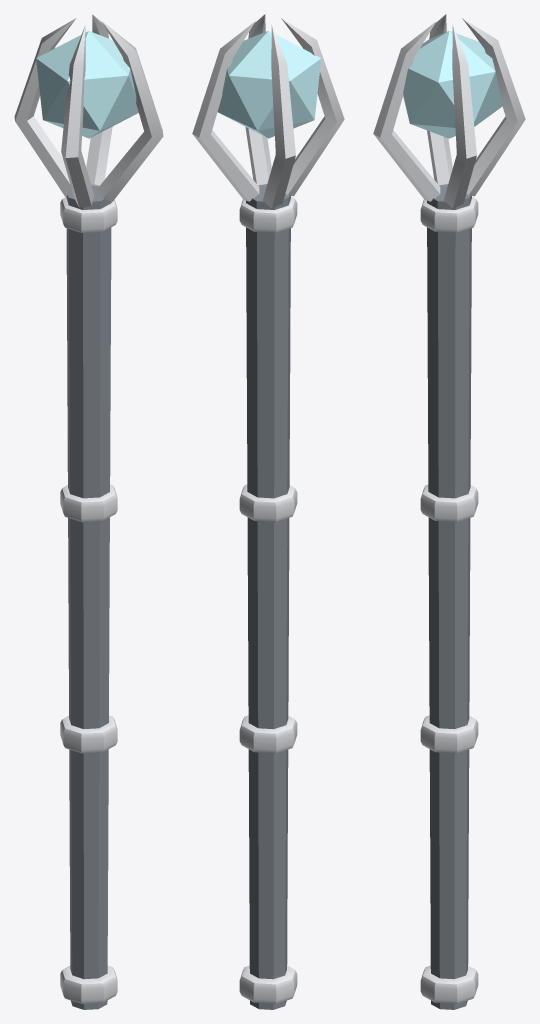
The model's file is DiamondStaff.fbx.
The picture shows the model from 3 angles, left to right: view 1: azimuth 30°, elevation 25°; view 2: azimuth 150°, elevation 25°; view 3: azimuth 330°, elevation 25°; orthographic projection.
Parts seen in each view (by area): view 1: DiamondStaff; view 2: DiamondStaff; view 3: DiamondStaff.
Part boxes in pixels (x1,y1,x2,y2): DiamondStaff: [14, 14, 163, 1009]; DiamondStaff: [192, 14, 344, 1009]; DiamondStaff: [373, 14, 525, 1009].
Bounding box in the file's own units: 0.5508 × 5.1 × 0.5508.
Materials: 1 (1 with a texture image).
